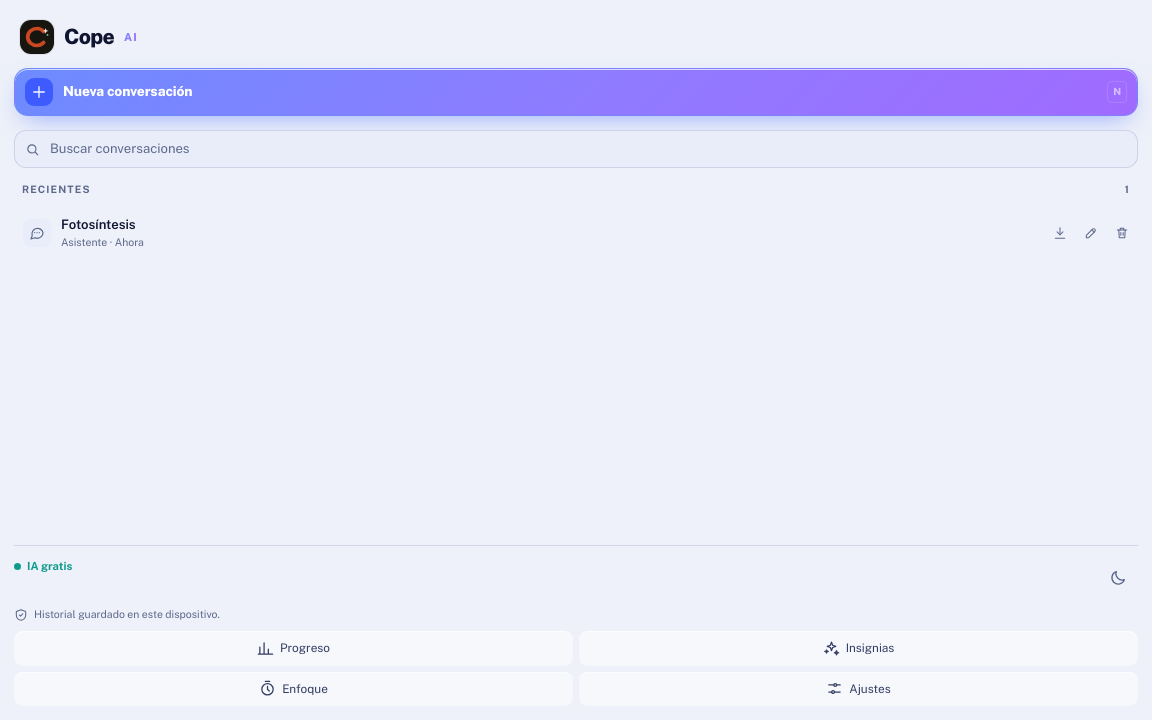
Test case: Sidebar › muestra el vacío de búsqueda y permite limpiarla
Type "química" into the search field labelled "Buscar conversaciones" at [590, 149], box [48,138,1131,160]
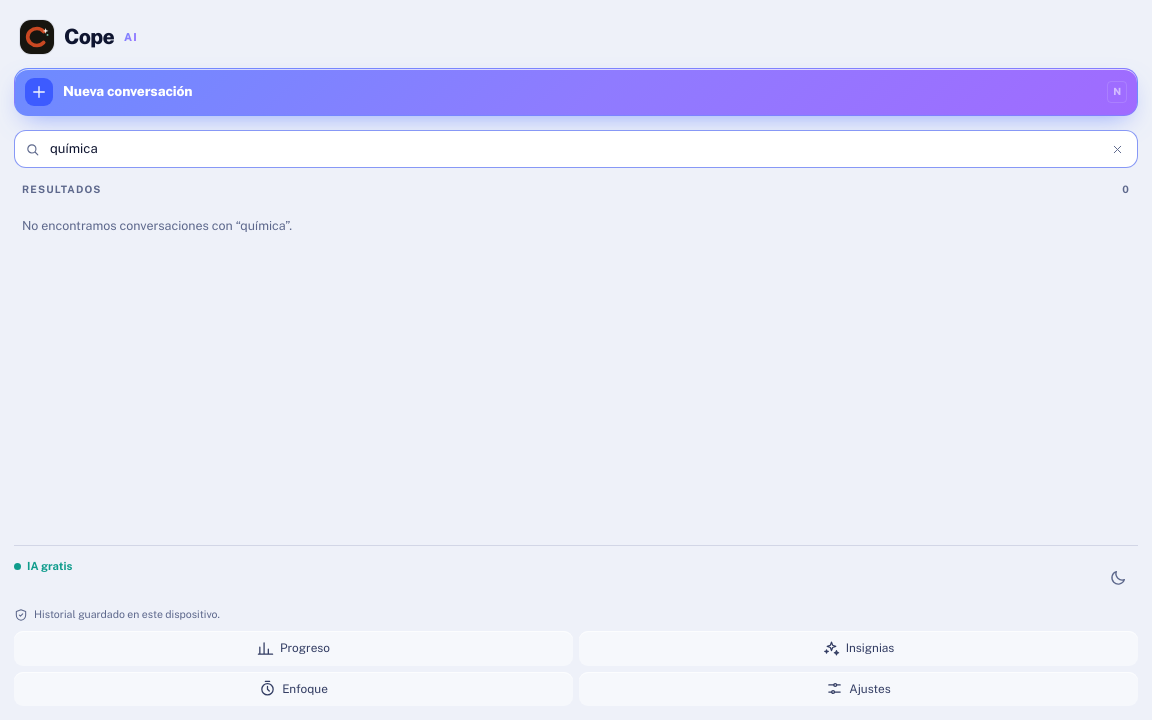
Now the text "No encontramos conversaciones con “química”." is shown, box [22,218,292,233]
Click the button named "Limpiar búsqueda" at [1117, 149], box [1103,135,1131,163]
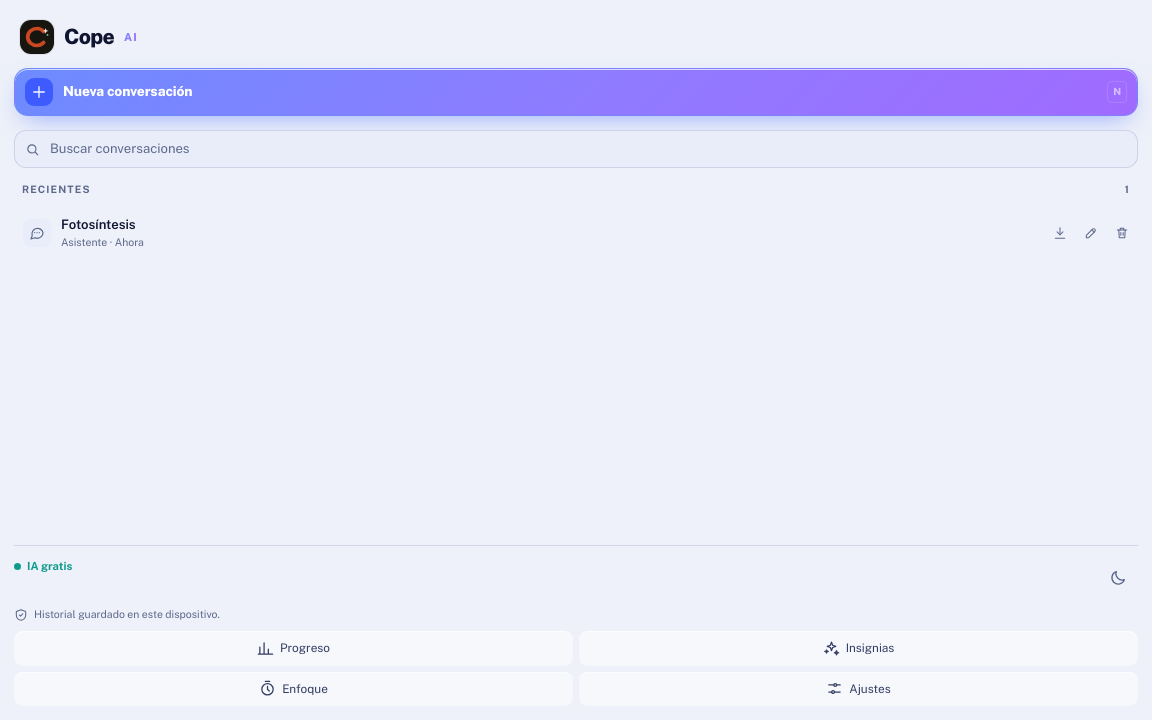
Now the search field is empty, box [48,138,1131,160]
Now the text "Fotosíntesis" is shown, box [61,216,144,234]
Now the text "Recientes" is shown, box [22,182,91,198]
